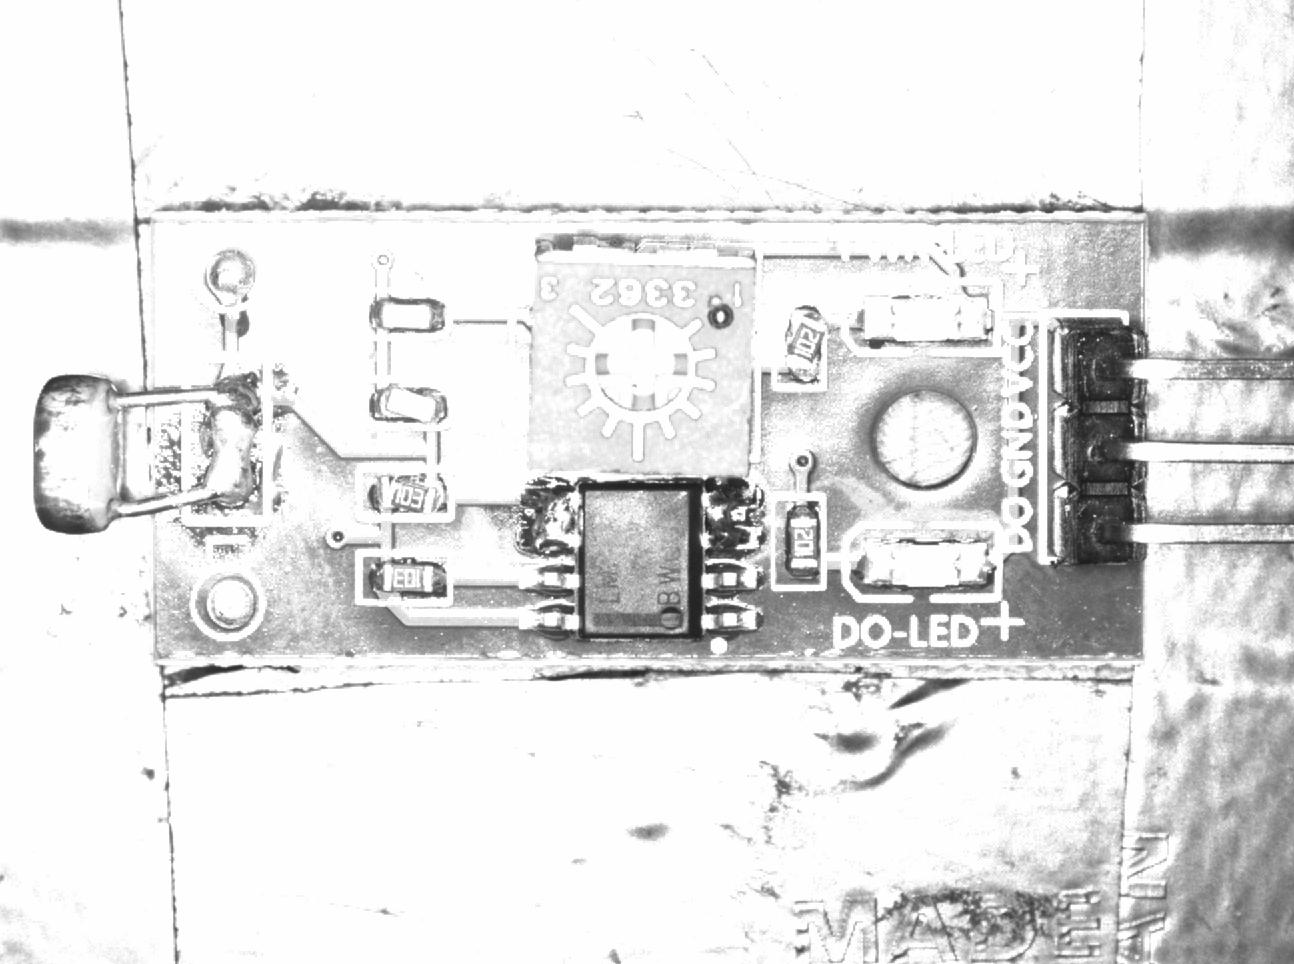bridge: (180, 355, 269, 526), (510, 486, 580, 558), (691, 483, 758, 550)
lifted: (358, 465, 455, 523), (772, 297, 827, 393)
ok: (767, 491, 824, 587), (360, 548, 456, 602), (367, 290, 453, 343), (369, 379, 452, 430)
